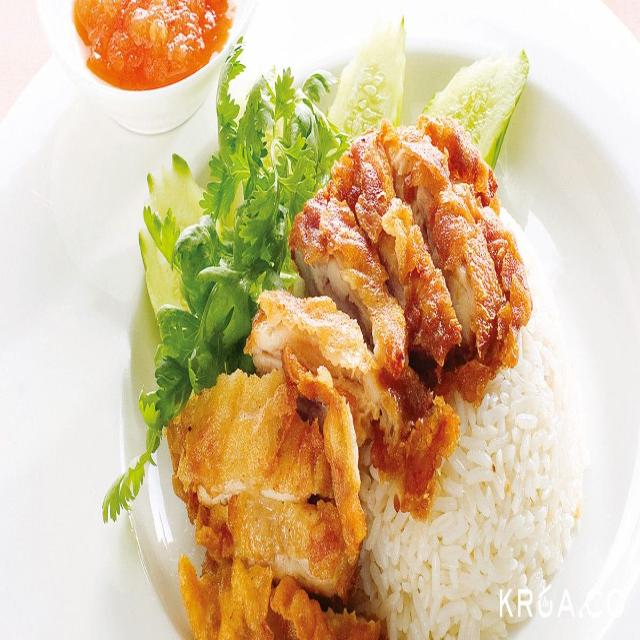Carbohydrate: (339, 204, 588, 640)
Kaow-Mankai: (101, 10, 640, 639)
Protein: (174, 116, 531, 640)
Vegetable: (137, 38, 529, 315)
